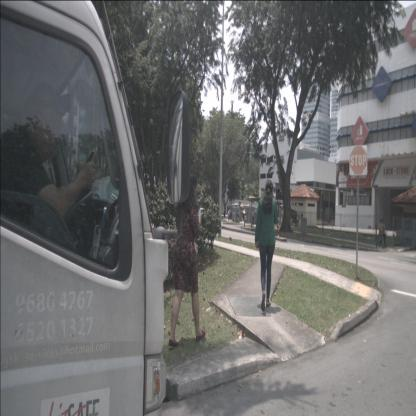human-pedestrian-adult: (168, 175, 206, 348), (255, 180, 278, 311), (375, 220, 384, 250), (379, 218, 387, 248), (227, 209, 231, 222), (252, 209, 255, 226)
vehicle-truck: (0, 0, 169, 416)
